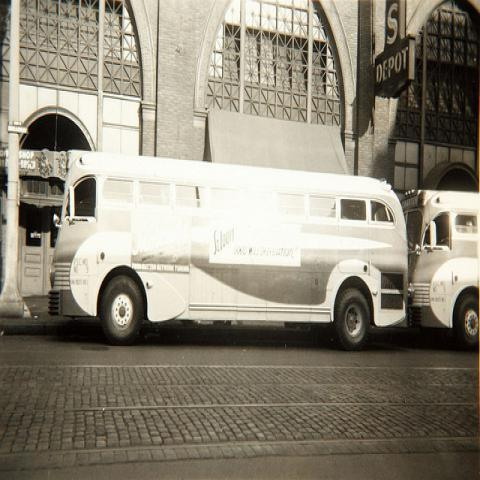bus: (48, 151, 406, 347), (401, 191, 479, 349)
